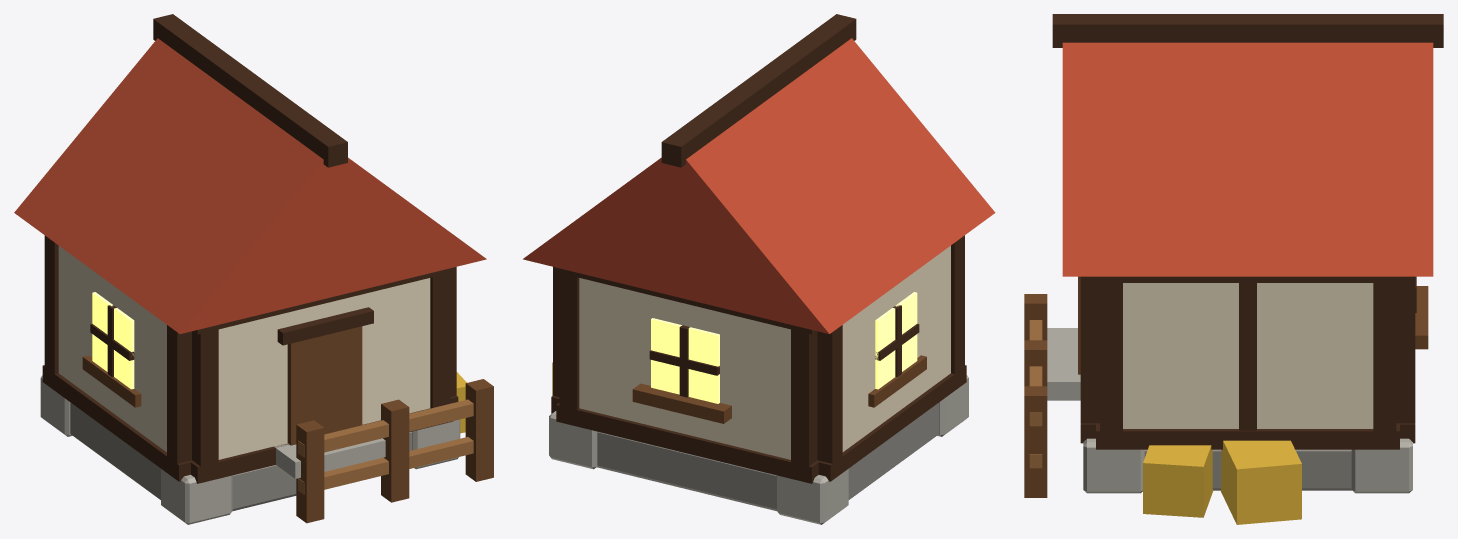
Rendered from farmhouse.glb.
3 renders of one model, left to right at view 1: azimuth 30°, elevation 25°; view 2: azimuth 150°, elevation 25°; view 3: azimuth 270°, elevation 25°, orthographic. The views are drawn at different scales.
Parts seen in each view (by area): view 1: roof_body, wall_plaster, wall_plaster.002, door_leaf, roof_ridge, foundation_core, post, post.004, beam_bot.002, corner_brick, post.001, fence_post (+14 smaller); view 2: roof_body, wall_plaster.001, wall_plaster.002, foundation_core, roof_ridge, beam_bot.001, post.003, win_pane, post.005, corner_brick.001, beam_bot.002, post.002 (+10 smaller); view 3: roof_body, wall_plaster.003, roof_ridge, hay_1, beam_bot.003, hay_2, post.006, post.007, post.001, post.002, corner_brick.003, corner_brick.002 (+9 smaller).
Part boxes in pixels (left/top/right/bottom): roof_body: left=14, top=38, right=486, bottom=333; wall_plaster: left=218, top=278, right=430, bottom=459; wall_plaster.002: left=58, top=246, right=166, bottom=452; door_leaf: left=287, top=326, right=362, bottom=445; roof_ridge: left=153, top=14, right=347, bottom=167; foundation_core: left=70, top=402, right=412, bottom=511; post: left=192, top=325, right=218, bottom=482; post.004: left=167, top=325, right=191, bottom=474; beam_bot.002: left=42, top=365, right=190, bottom=481; corner_brick: left=161, top=469, right=232, bottom=524; post.001: left=430, top=273, right=450, bottom=408; fence_post: left=296, top=420, right=324, bottom=523; roof_body: left=523, top=38, right=995, bottom=333; wall_plaster.001: left=579, top=278, right=790, bottom=459; wall_plaster.002: left=842, top=245, right=950, bottom=451; foundation_core: left=597, top=403, right=938, bottom=511; roof_ridge: left=661, top=14, right=856, bottom=167; beam_bot.001: left=556, top=403, right=819, bottom=483; post.003: left=791, top=325, right=817, bottom=482; win_pane: left=651, top=318, right=719, bottom=403; post.005: left=817, top=325, right=842, bottom=463; corner_brick.001: left=777, top=469, right=848, bottom=524; beam_bot.002: left=818, top=365, right=966, bottom=481; post.002: left=559, top=273, right=579, bottom=409; roof_body: left=1062, top=42, right=1433, bottom=276; wall_plaster.003: left=1123, top=283, right=1373, bottom=428; roof_ridge: left=1052, top=14, right=1443, bottom=47; hay_1: left=1220, top=440, right=1301, bottom=524; beam_bot.003: left=1096, top=423, right=1399, bottom=449; hay_2: left=1143, top=445, right=1213, bottom=517; post.006: left=1373, top=276, right=1396, bottom=449; post.007: left=1100, top=276, right=1122, bottom=449; post.001: left=1080, top=276, right=1099, bottom=423; post.002: left=1396, top=276, right=1415, bottom=423; corner_brick.003: left=1351, top=438, right=1412, bottom=493; corner_brick.002: left=1083, top=438, right=1144, bottom=493.
Bounding box in the file's own units: 1.75 × 1.73 × 1.64.
